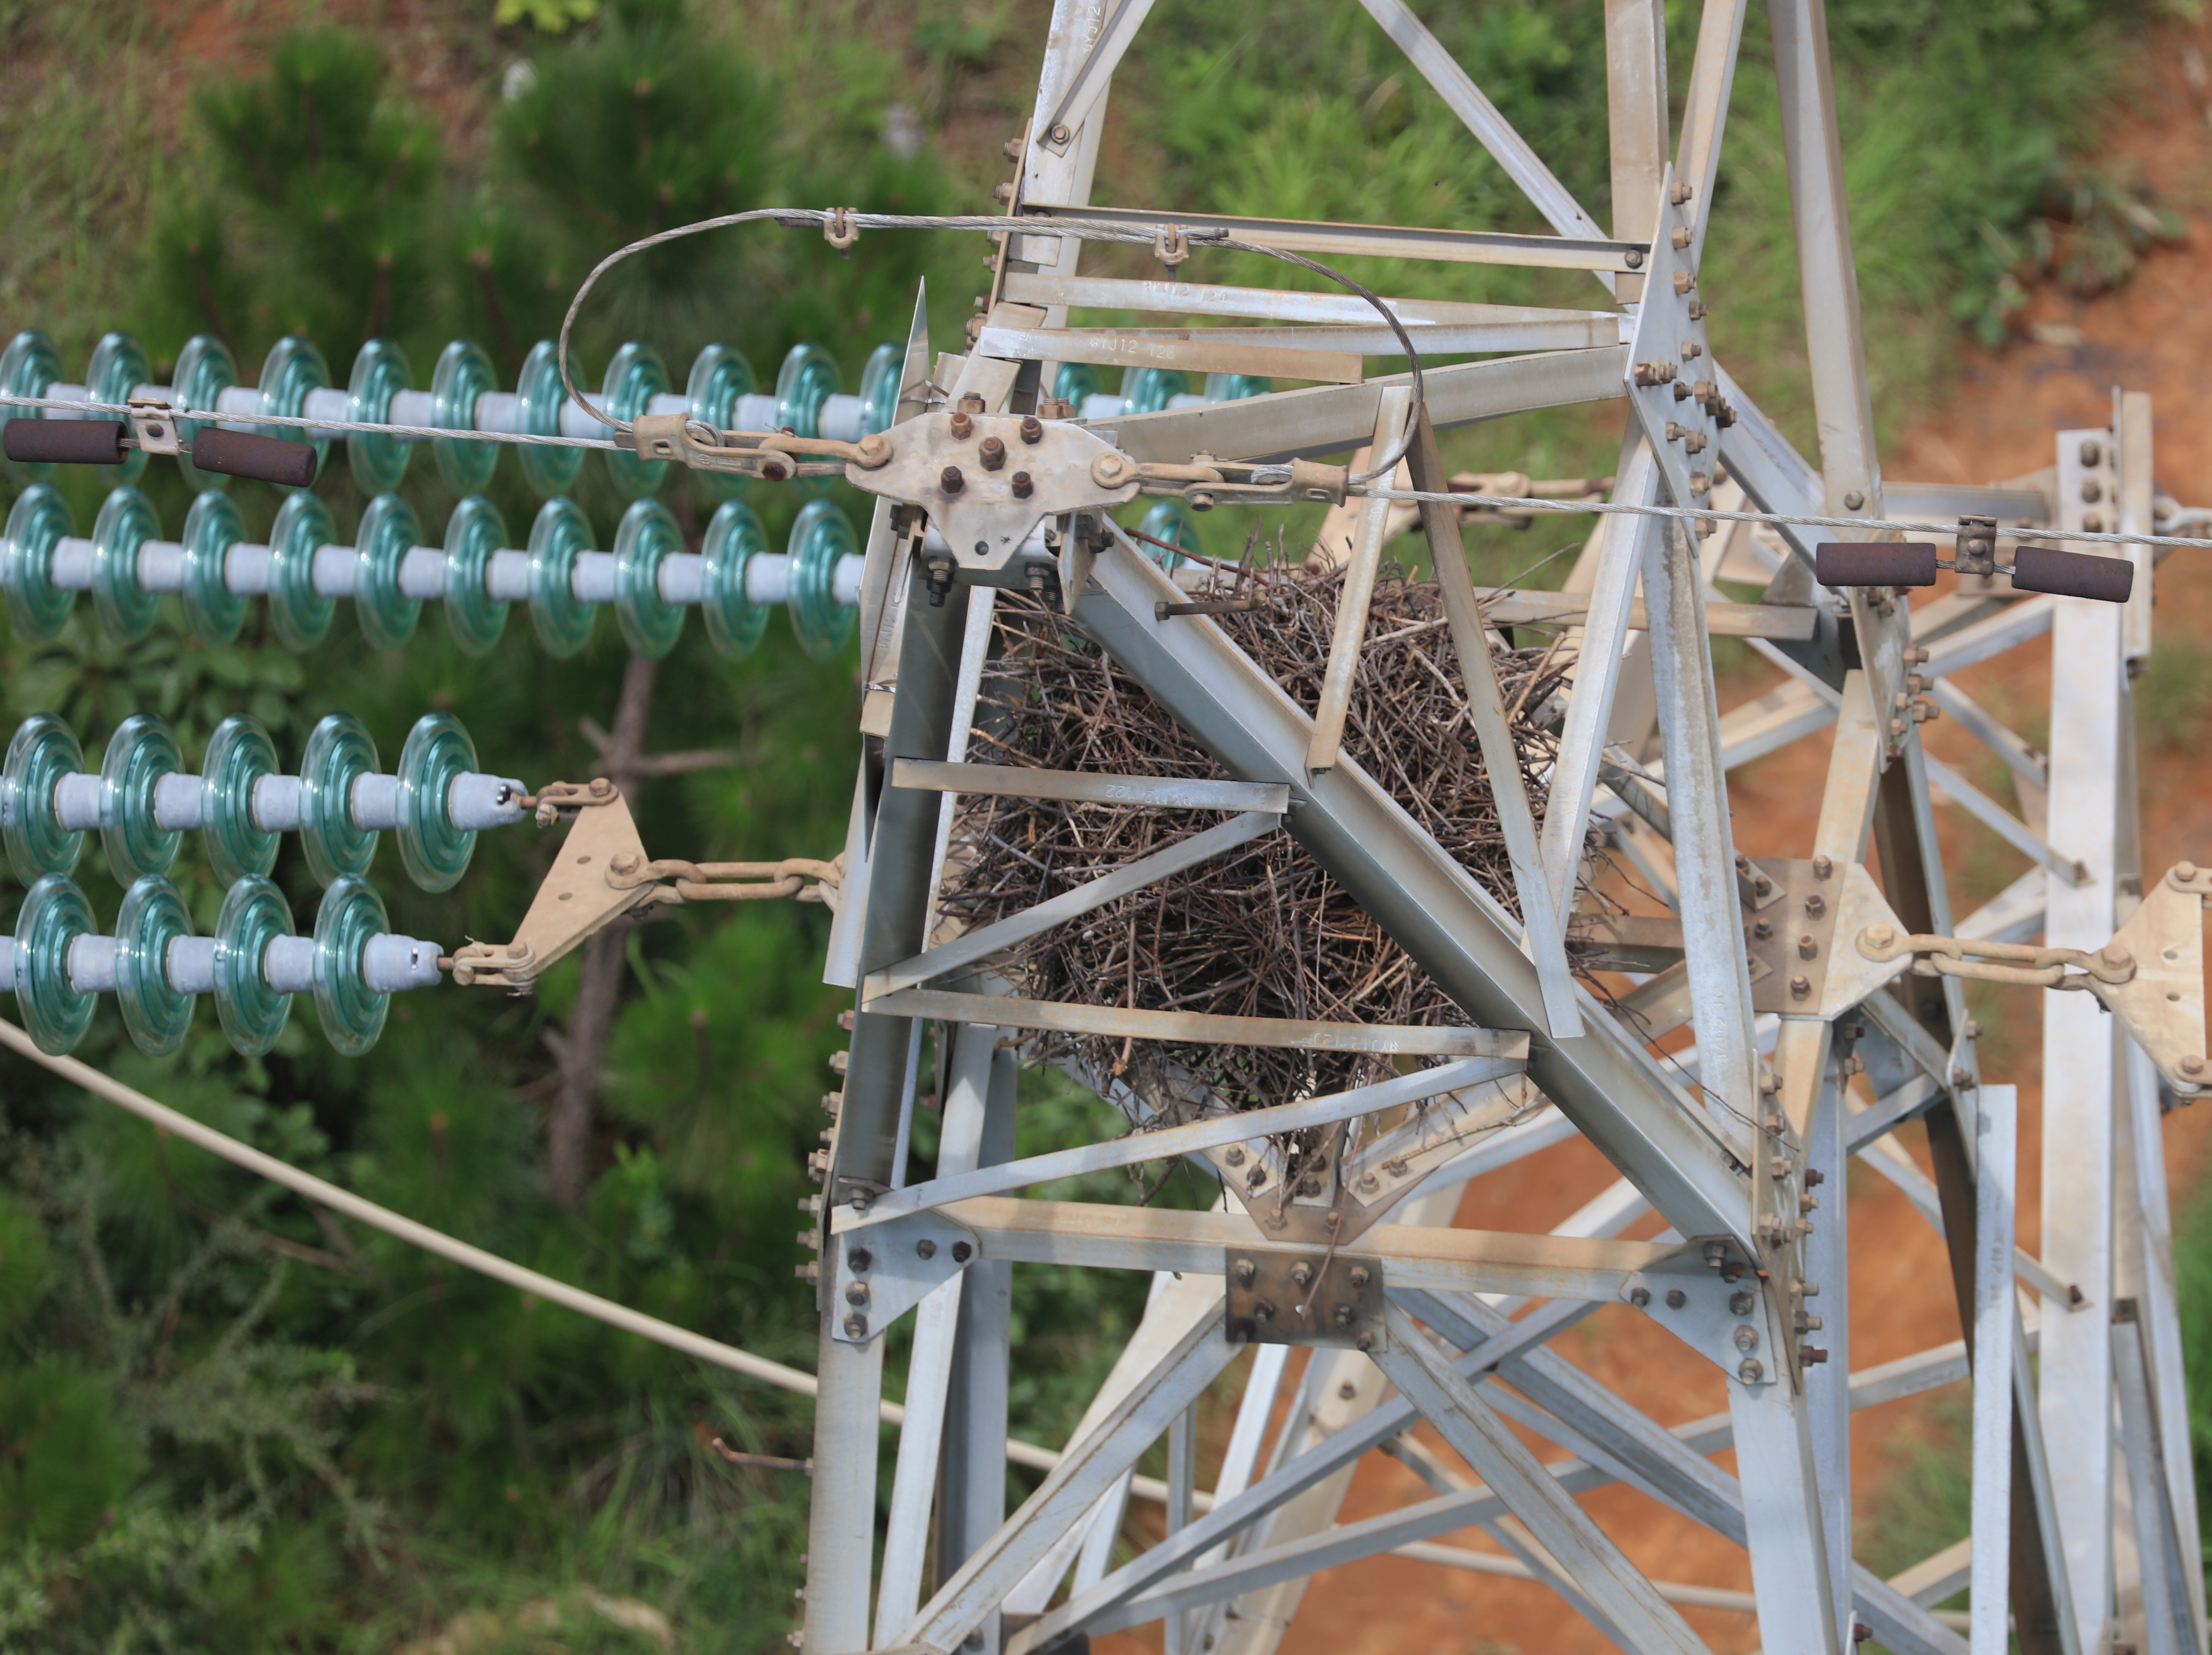niaowo: (930, 509, 1632, 1187)
